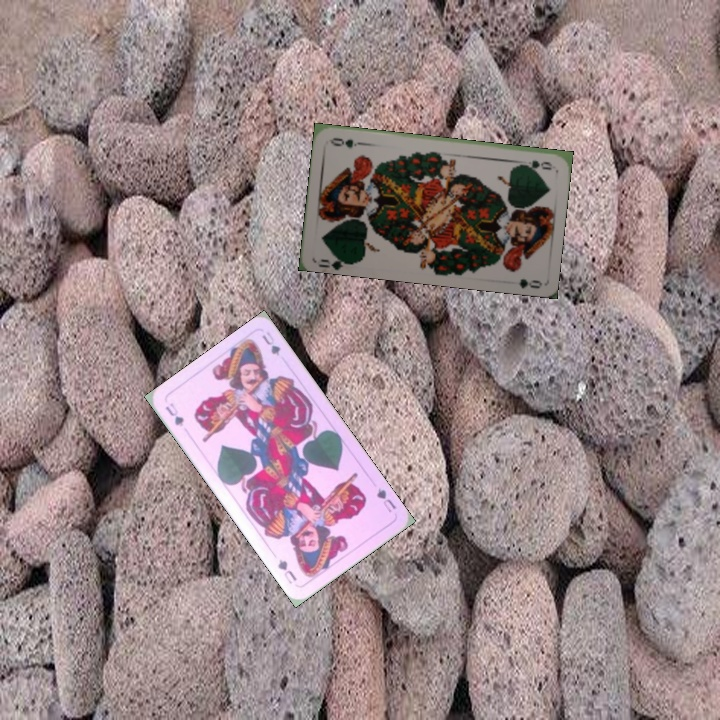GO: (315, 249, 355, 270), (514, 156, 555, 172)
GU: (373, 484, 399, 515), (161, 399, 186, 430)
